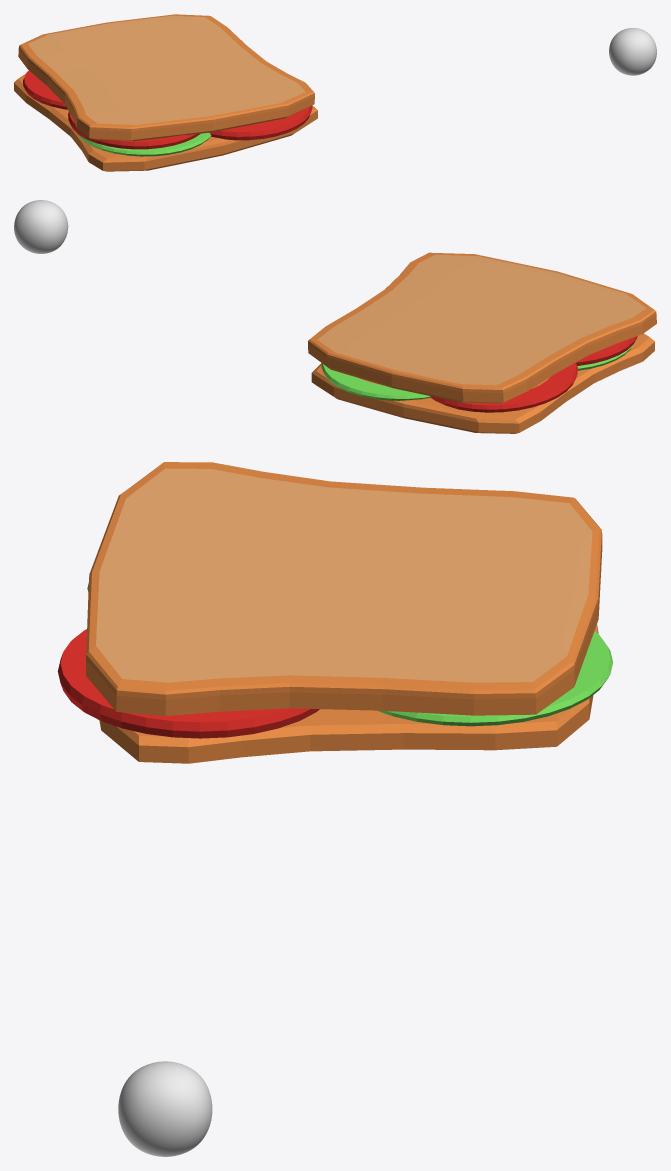
File: sandvitch.fbx
The picture shows the model from 3 angles, top to bottom: view 1: azimuth 30°, elevation 25°; view 2: azimuth 150°, elevation 25°; view 3: azimuth 270°, elevation 25°; orthographic projection. The views are drawn at different scales.
Parts seen in each view (by area): view 1: Plane.001, Plane, Cube, Circle, Circle.004, Circle.001, Circle.002; view 2: Plane.001, Plane, Cube, Circle.002, Circle.003, Circle.004; view 3: Plane.001, Plane, Cube, Circle, Circle.003.
Part boxes in pixels (x1,y1,x2,y2): Plane.001: (18, 14, 314, 141); Plane: (14, 74, 317, 171); Cube: (609, 28, 656, 75); Circle: (209, 105, 312, 140); Circle.004: (68, 112, 200, 149); Circle.001: (78, 132, 211, 156); Circle.002: (23, 70, 67, 109); Plane.001: (308, 252, 656, 403); Plane: (311, 333, 654, 433); Cube: (14, 200, 68, 253); Circle.002: (430, 362, 577, 412); Circle.003: (321, 363, 430, 400); Circle.004: (576, 336, 637, 365); Plane.001: (86, 462, 602, 715); Plane: (99, 625, 598, 763); Cube: (118, 1061, 212, 1156); Circle: (57, 629, 319, 738); Circle.003: (378, 631, 613, 726).
Size of the model in its own units: 502 by 68.12 by 214.
